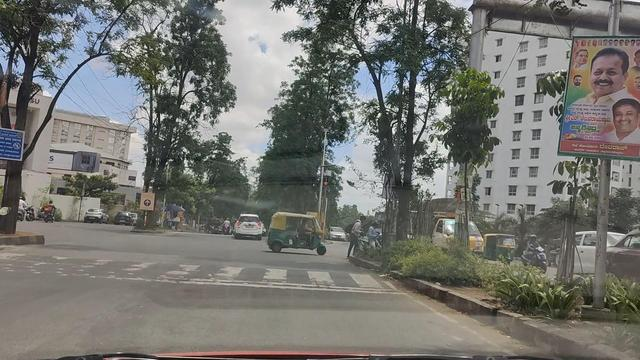LMV: (270, 215, 322, 249)
SpeedBump: (3, 253, 387, 287)
